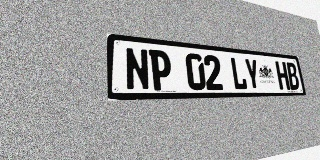0: (185, 53, 206, 90)
2: (203, 54, 223, 90)
B: (285, 62, 300, 90)
H: (275, 61, 290, 90)
L: (230, 57, 248, 90)
N: (125, 47, 150, 91)
P: (149, 49, 173, 90)
Y: (244, 58, 261, 90)
